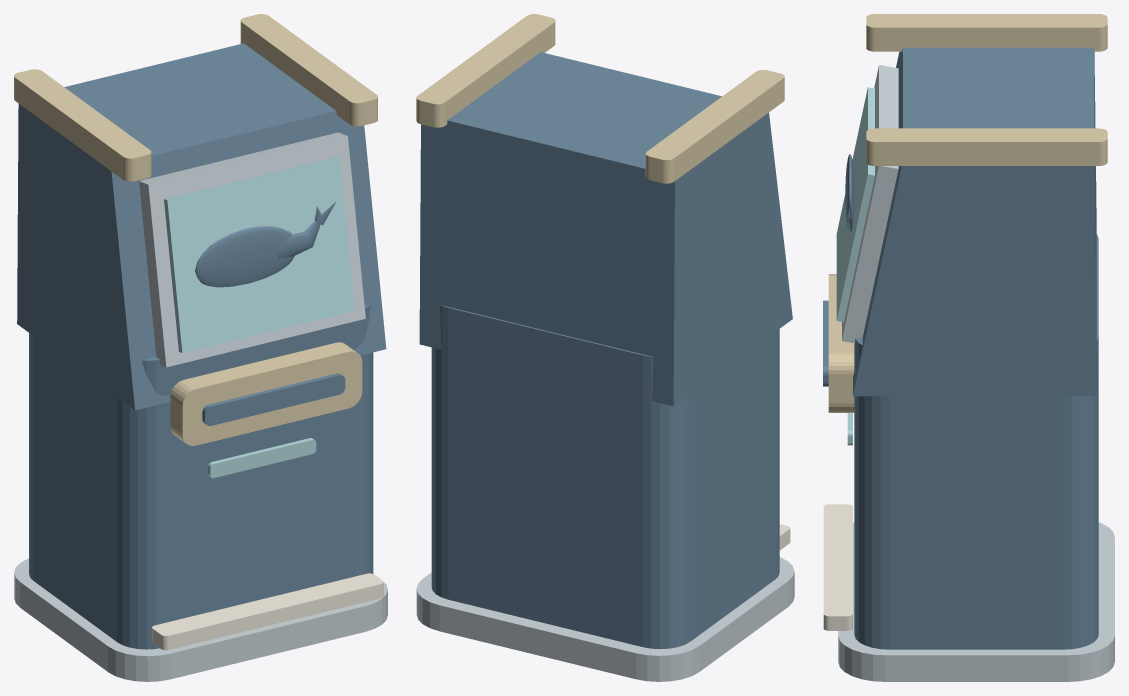
Rendered from library_token_atm.glb.
3 renders of one model, left to right at view 1: azimuth 30°, elevation 25°; view 2: azimuth 150°, elevation 25°; view 3: azimuth 270°, elevation 25°, orthographic. The views are drawn at different scales.
Visible parts, largest first — view 1: decor_29445e_matte, decor_9aadb8_metal, decor_75b7bf_matte, decor_bca46d_metal, decor_e0d7bf_matte; view 2: decor_29445e_matte, decor_9aadb8_metal, decor_bca46d_metal; view 3: decor_29445e_matte, decor_bca46d_metal, decor_9aadb8_metal, decor_75b7bf_matte, decor_e0d7bf_matte.
Part boxes in pixels (box(x1,y1,x2,y2)): decor_29445e_matte: box(17, 43, 386, 649); decor_9aadb8_metal: box(14, 132, 387, 681); decor_75b7bf_matte: box(164, 157, 354, 478); decor_bca46d_metal: box(14, 14, 377, 445); decor_e0d7bf_matte: box(152, 573, 383, 650); decor_29445e_matte: box(419, 52, 792, 649); decor_9aadb8_metal: box(416, 557, 794, 681); decor_bca46d_metal: box(416, 14, 784, 183); decor_29445e_matte: box(823, 47, 1098, 649); decor_bca46d_metal: box(828, 14, 1107, 412); decor_9aadb8_metal: box(838, 65, 1114, 681); decor_75b7bf_matte: box(836, 87, 874, 445); decor_e0d7bf_matte: box(823, 504, 852, 630).
Bounding box in the file's own units: 1.11 × 2.01 × 0.9915.
